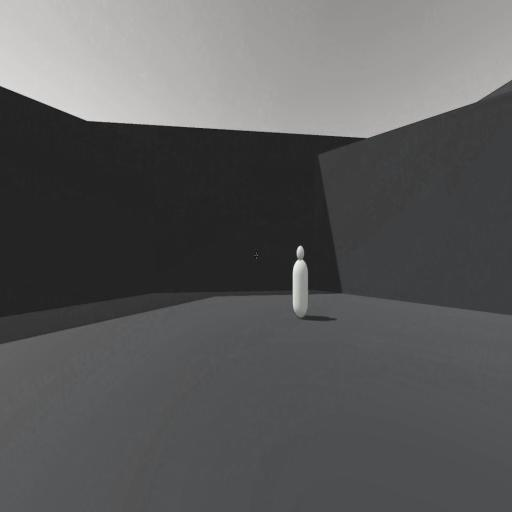Crosshair: (254, 252, 259, 260)
Target: (293, 244, 309, 319)
